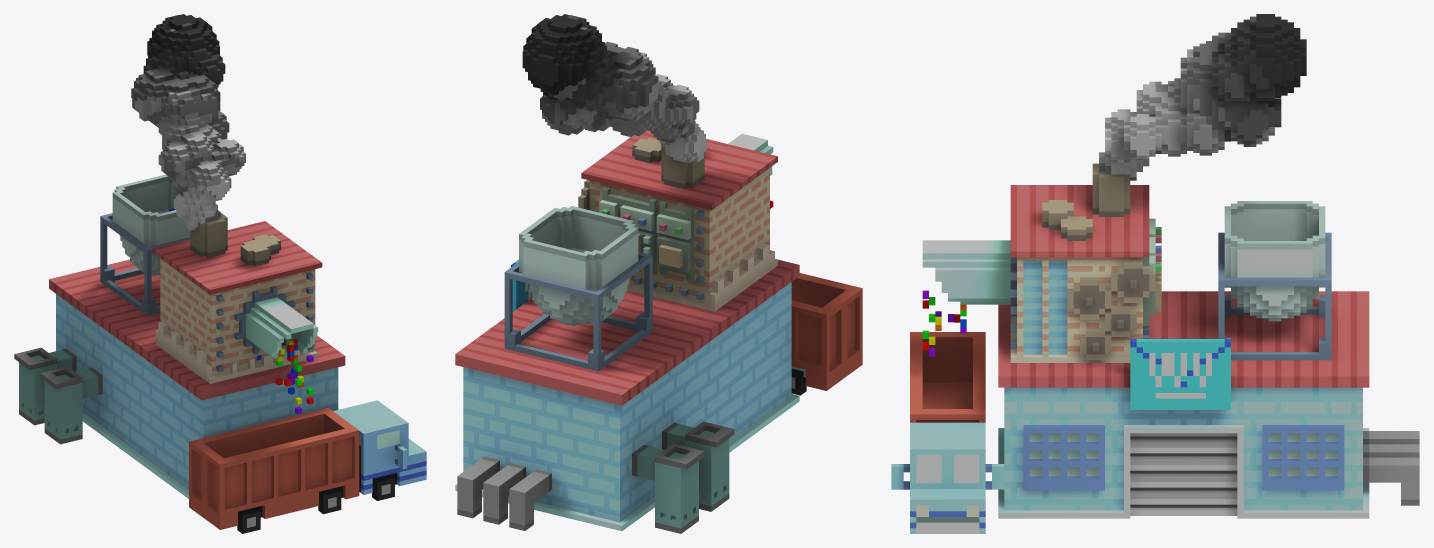
Rendered from factory.glb.
The picture shows the model from 3 angles, left to right: view 1: azimuth 30°, elevation 25°; view 2: azimuth 150°, elevation 25°; view 3: azimuth 270°, elevation 25°; orthographic projection. The views are drawn at different scales.
Visible parts, largest first — view 1: Geode; view 2: Geode; view 3: Geode.
Part boxes in pixels (left/top/right/bottom): Geode: left=14, top=14, right=426, bottom=533; Geode: left=455, top=14, right=862, bottom=533; Geode: left=891, top=14, right=1419, bottom=533.
Size of the model in its own units: 6.5 by 10.25 by 10.5.
